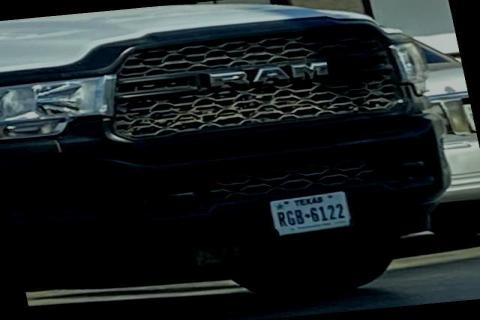LicensePlate: (266, 189, 353, 237)
